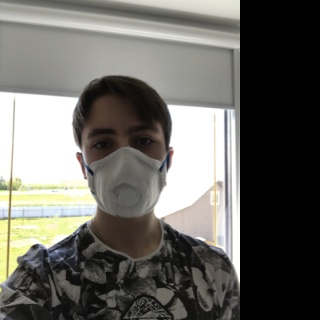with_mask: (80, 115, 172, 218)
